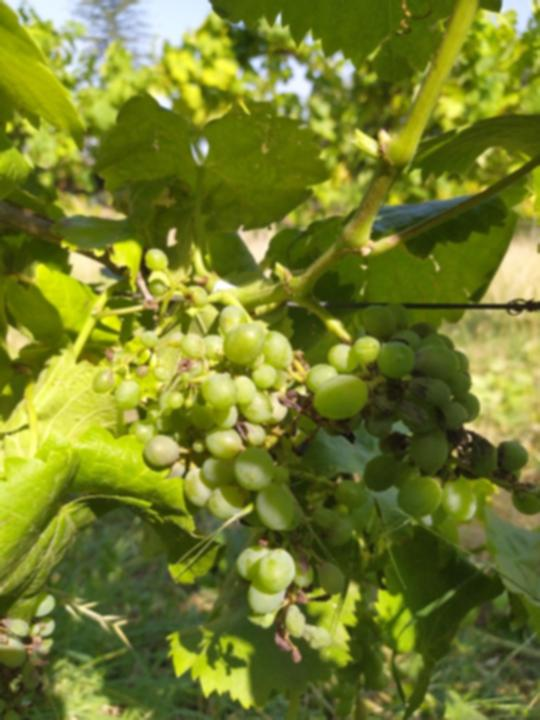grape: (89, 244, 355, 667), (302, 300, 540, 532)
